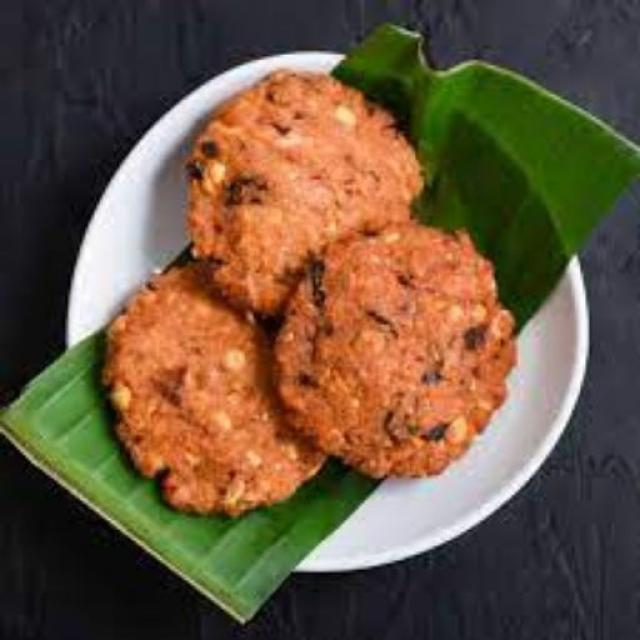dhal wade: (92, 268, 326, 495), (178, 82, 429, 291), (295, 232, 504, 478)
